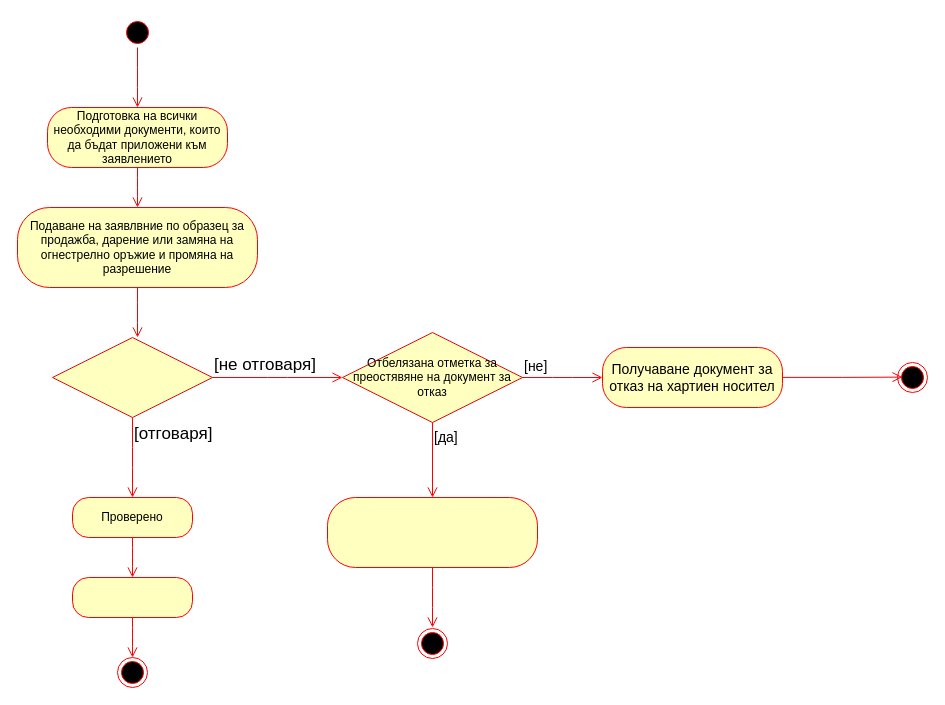
Image size: 945x705. Some labels were removed from this diagram. Each missing label, with the centre of its shape:
"Издаване на разрешение" goes at point 132,597.
"Получаване на електронен документ за отказ" goes at point 432,532.
"Проверка на заявление дали отговаря на всички условия" goes at point 132,377.
